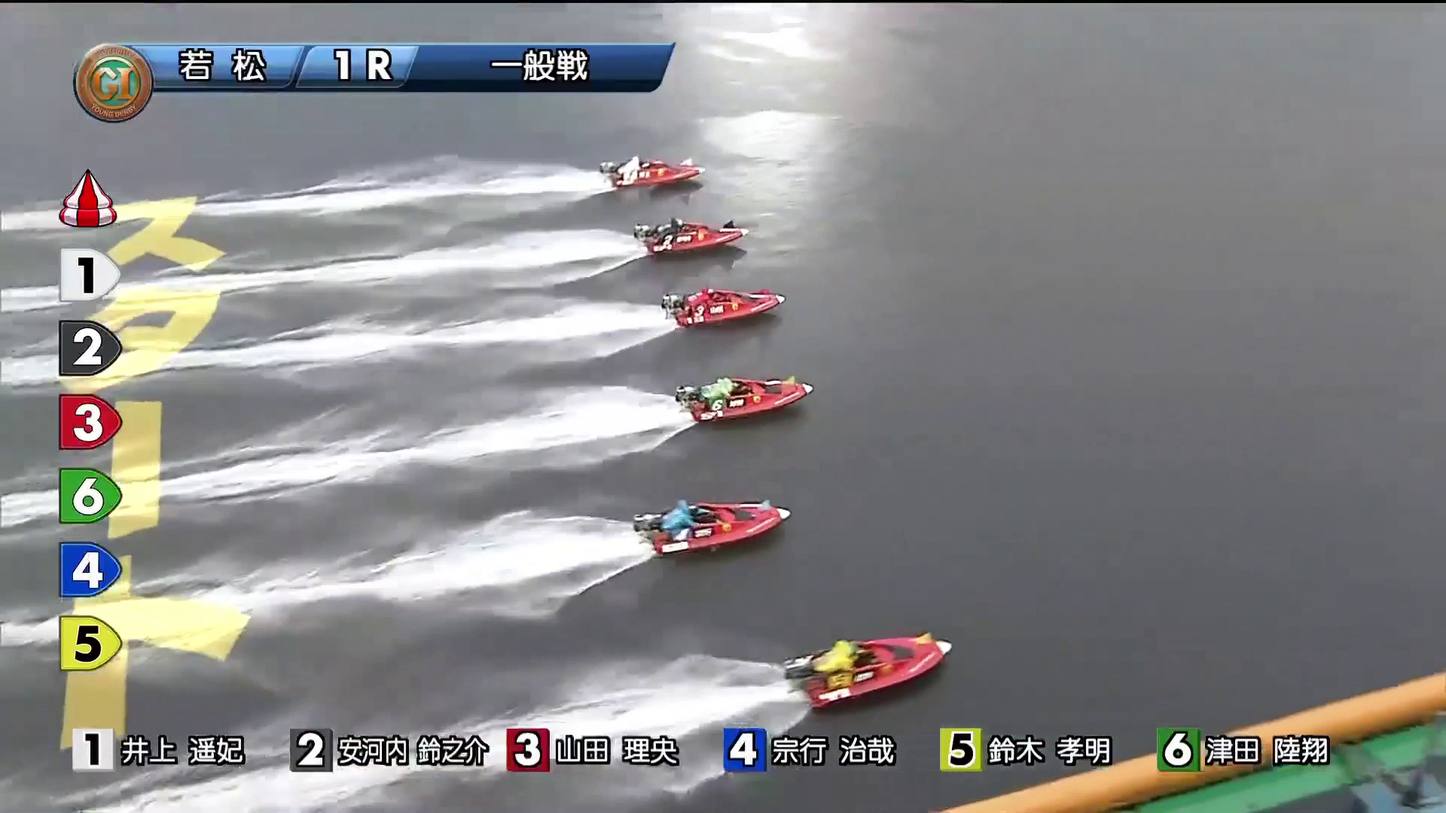１号艇: (616, 150, 692, 189)
２号艇: (642, 213, 745, 251)
３号艇: (670, 279, 795, 320)
４号艇: (692, 365, 797, 408)
５号艇: (645, 493, 765, 548)
６号艇: (768, 628, 926, 685)
